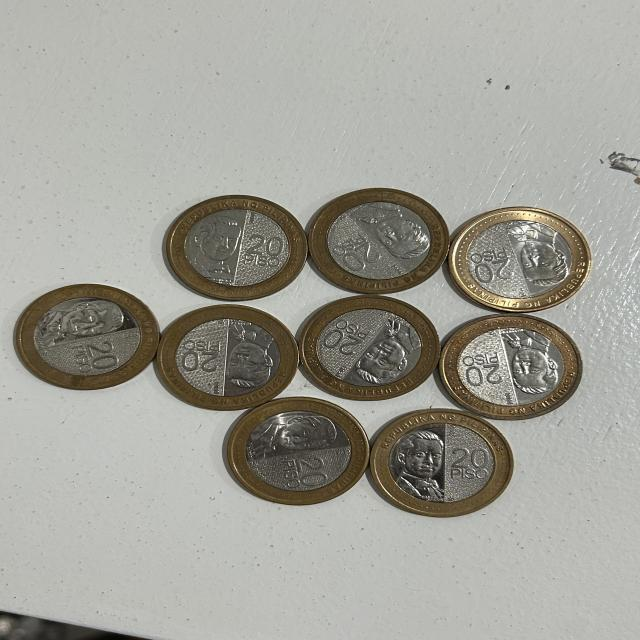20_New_Front: (462, 242, 518, 298), (57, 340, 139, 378), (273, 450, 338, 493), (436, 443, 491, 490), (320, 232, 374, 278), (316, 314, 374, 352), (174, 336, 226, 378), (244, 224, 287, 272)
